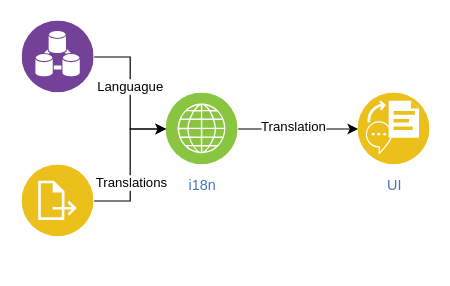
Image size: 450x286. Some labels were removed from this diagram. Each missing label, with the box of its shape:
global store: (22, 20, 94, 92)
locales: (22, 164, 94, 236)
